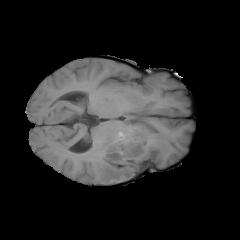glioma: (84, 111, 169, 182)
